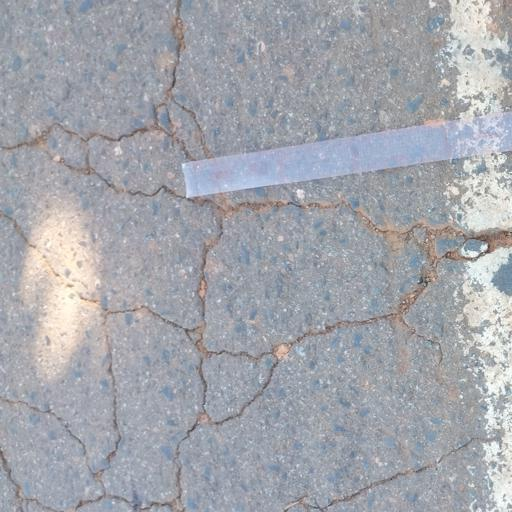GRIETA: (169, 0, 185, 88)
PIEL DE COCODRILO: (0, 81, 511, 511)
